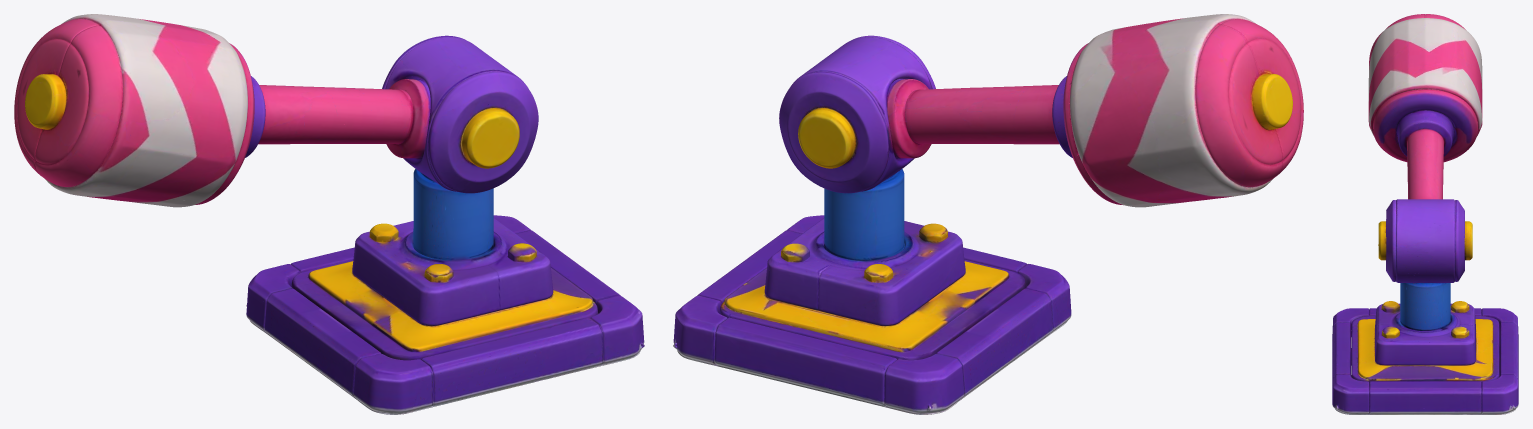
The model's file is model-07-spin-hammer.glb.
3 renders of one model, left to right at view 1: azimuth 30°, elevation 25°; view 2: azimuth 150°, elevation 25°; view 3: azimuth 270°, elevation 25°, orthographic. The views are drawn at different scales.
Parts seen in each view (by area): view 1: node_0; view 2: node_0; view 3: node_0.
Part boxes in pixels (x1,y1,x2,y2): node_0: [14, 14, 644, 414]; node_0: [673, 14, 1303, 414]; node_0: [1332, 14, 1518, 414].
Size of the model in its own units: 0.9497 by 0.6537 by 0.441.
Materials: 1 (1 with a texture image).
